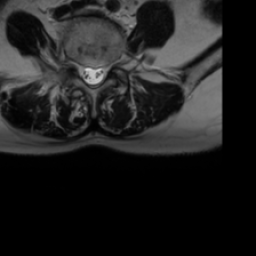CCS_normal: (89, 59, 97, 93)
LFS_normal: (106, 55, 114, 79)
LLS_normal: (97, 61, 105, 86)
RFS_normal: (72, 55, 80, 80)
RLS_normal: (80, 61, 89, 89)
